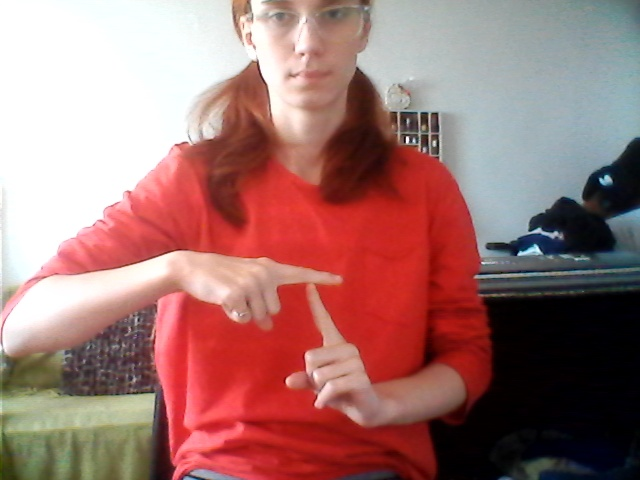t: (225, 243, 398, 441)
